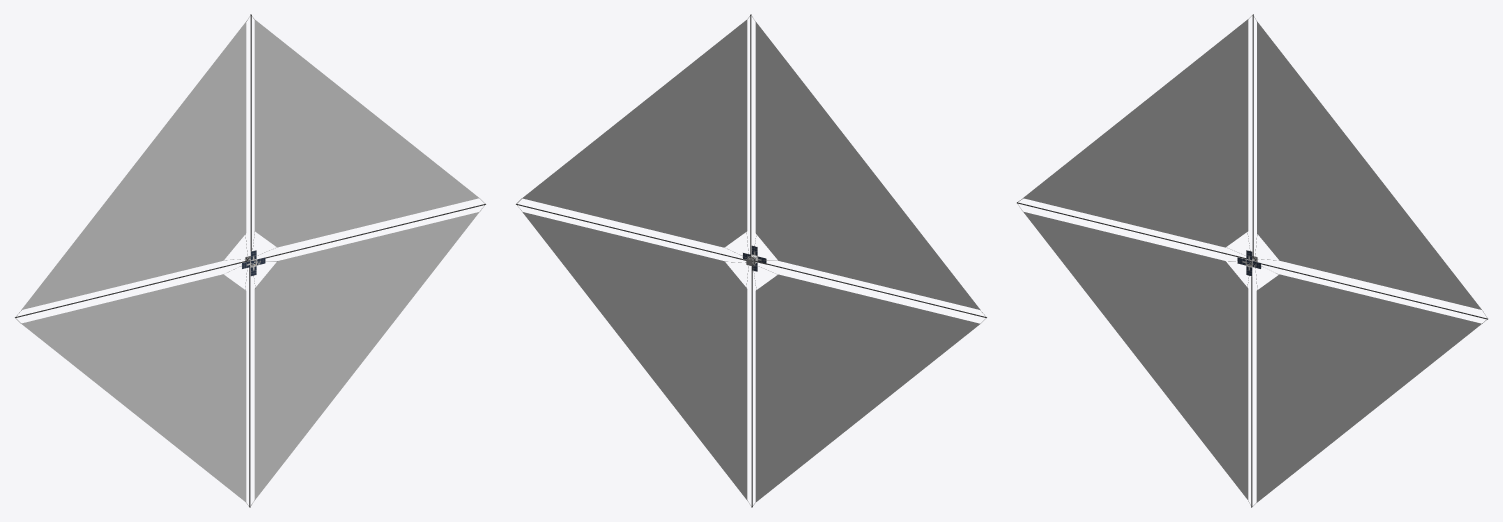
File: acs3.glb
3 renders of one model, left to right at view 1: azimuth 30°, elevation 25°; view 2: azimuth 150°, elevation 25°; view 3: azimuth 330°, elevation 25°, orthographic.
Parts seen in each view (by area): view 1: sails.001, booms; view 2: sails.001, booms; view 3: sails.001, booms.
Part boxes in pixels (x1,y1,x2,y2): sails.001: (21,20,479,501); booms: (15,14,485,507); sails.001: (522,20,980,501); booms: (516,14,986,507); sails.001: (1023,19,1481,502); booms: (1017,14,1487,507).
Bounding box in the file's own units: 14.62 × 14.62 × 0.2876.
Materials: 7 (3 with a texture image).
